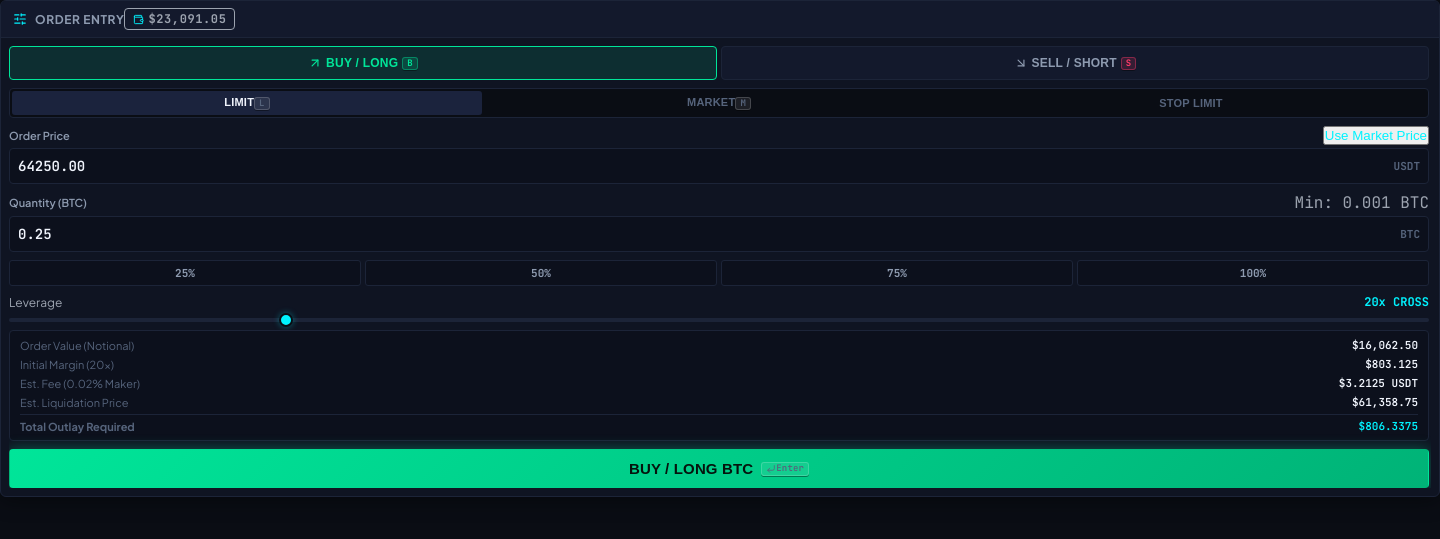
Phase 8 — Order Form Feature › displays error state when order mutation fails
Step 1. Click the button with test id "order-submit-btn" → (719, 468), box x1=9 y1=449 x2=1429 y2=488
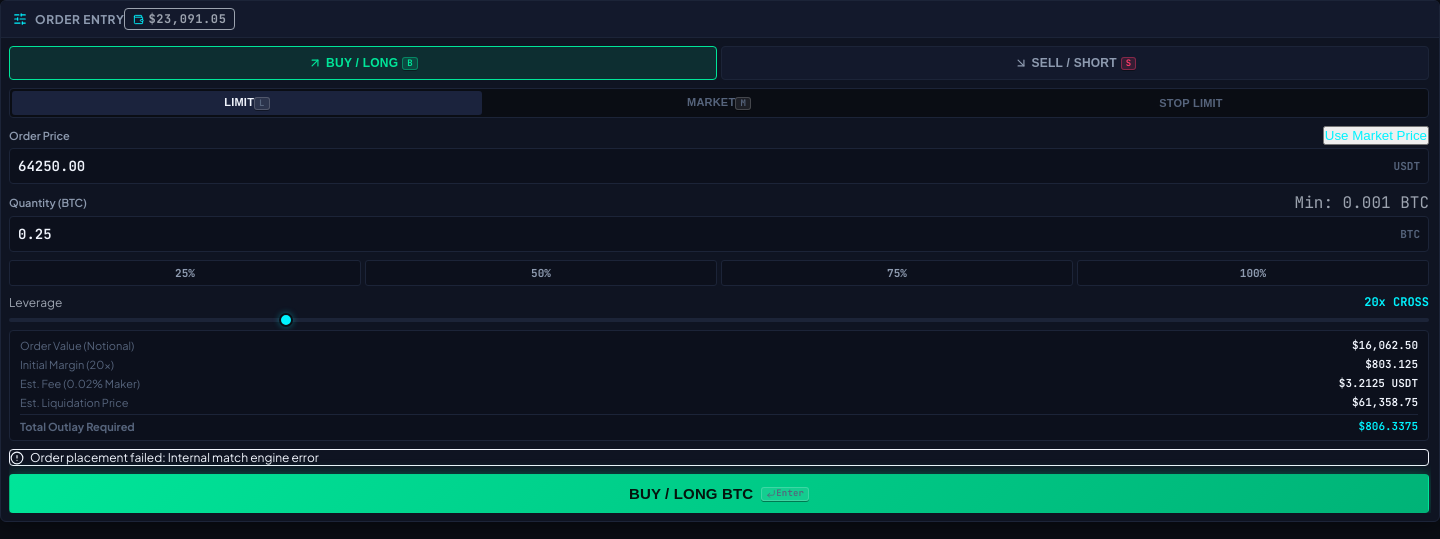
Now the message "Order placement failed: Internal match engine error" is shown, box x1=9 y1=449 x2=1429 y2=466
Now the message with test id "order-error-banner" shows "Order placement failed", box x1=30 y1=450 x2=319 y2=465
